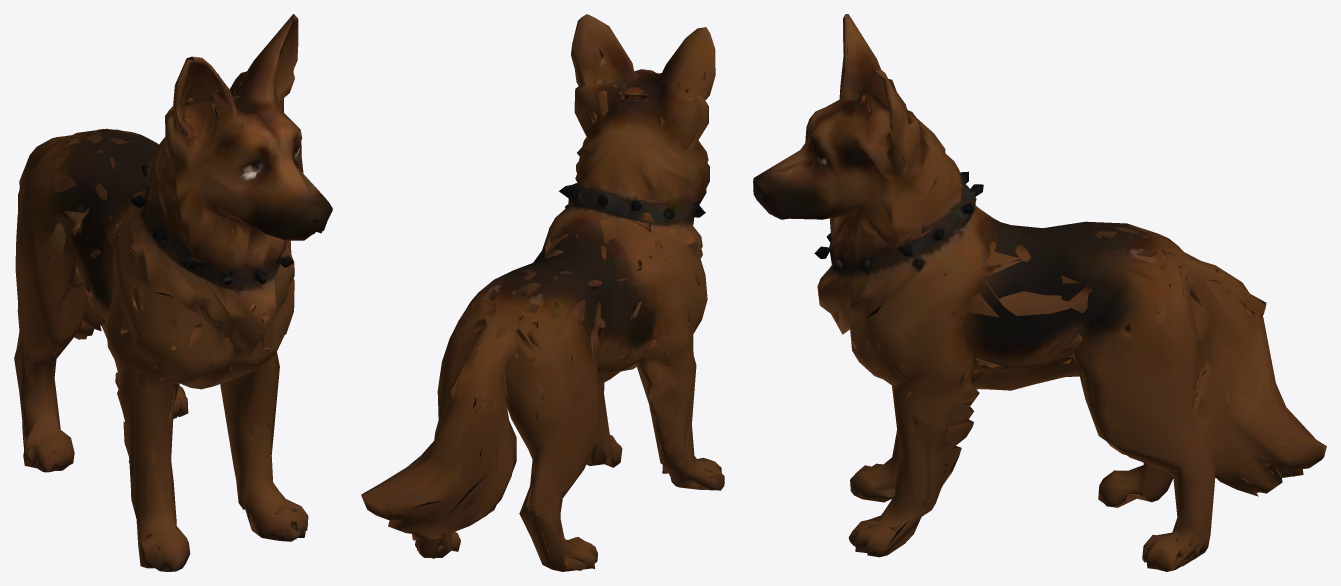
Rendered from detail_5_lo.glb.
3 renders of one model, left to right at view 1: azimuth 30°, elevation 25°; view 2: azimuth 150°, elevation 25°; view 3: azimuth 270°, elevation 25°, orthographic. The views are drawn at different scales.
Parts seen in each view (by area): view 1: Mesh_0.001; view 2: Mesh_0.001; view 3: Mesh_0.001.
Boxes of the visible parts, x1,y1,x2,y2 form: Mesh_0.001: (14, 14, 332, 571); Mesh_0.001: (361, 14, 724, 571); Mesh_0.001: (753, 14, 1326, 571).
Size of the model in its own units: 0.3739 by 0.9288 by 0.9974.
Materials: 1 (1 with a texture image).
